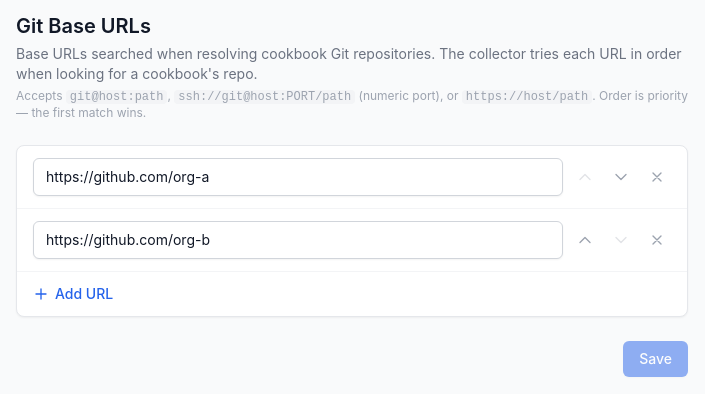
Test: AdminGitURLsPage › move up reorders the URLs in place
Check: the 2nd field showing "https://github.com/org-b" is shown, box [33, 221, 563, 259]
Click the 2nd button titled "Move up" at point(585, 240), box [571, 226, 599, 254]
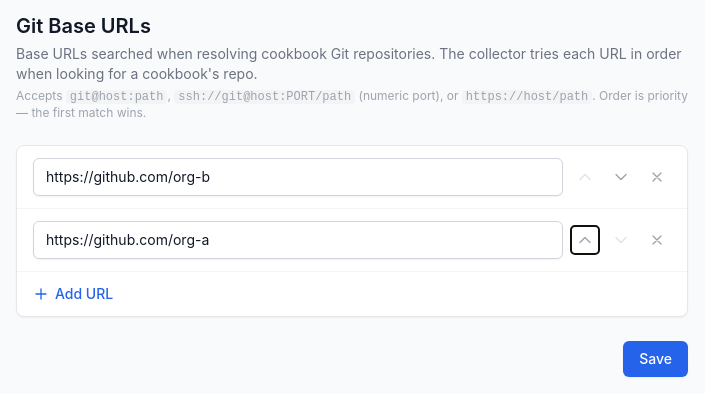
Check: the 1st field holds "https://github.com/org-b", box [33, 158, 563, 196]
Check: the 2nd field holds "https://github.com/org-a", box [33, 221, 563, 259]
Check: the button "Save" is enabled, box [623, 341, 688, 377]
